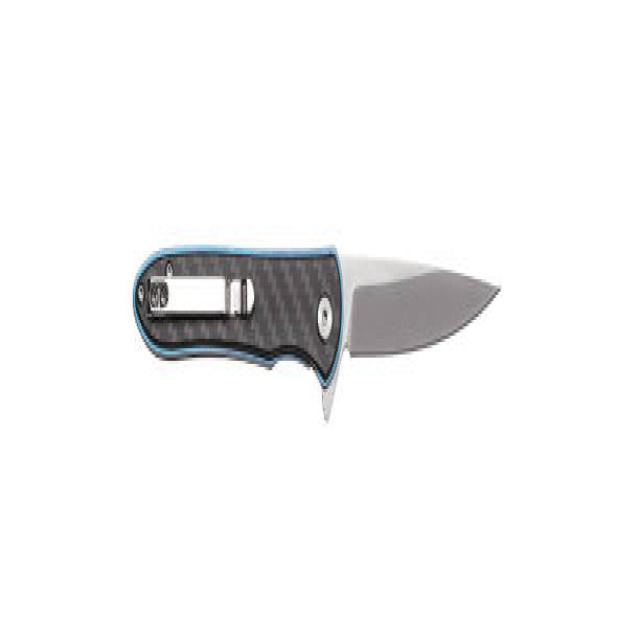knife: (133, 217, 503, 423)
